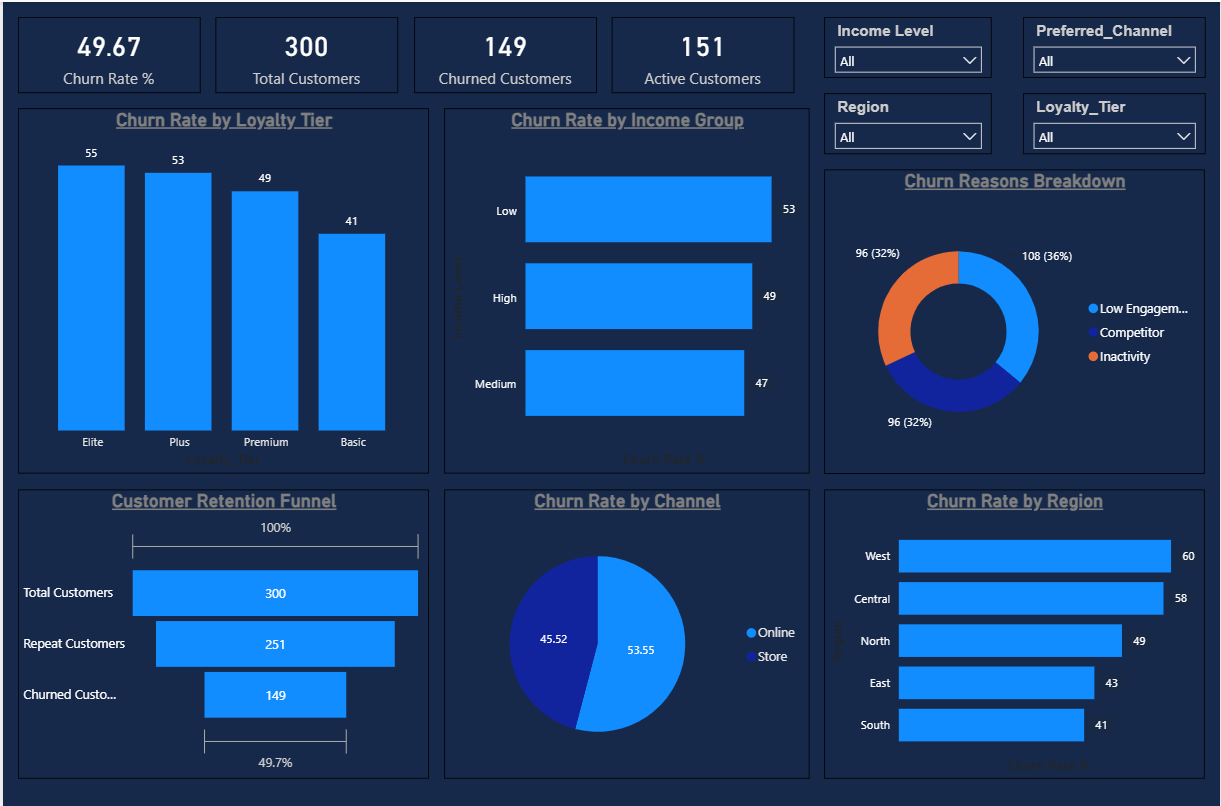

The dashboard page shown, as its layout file describes it:
{"tool":"powerbi","page":{"name":"Page 1","canvas":[1280,850],"ordinal":0},"visuals":[{"type":"clusteredBarChart","title":"Churn Rate by Region","fields":{"Y":["Measures_Folder.Churn Rate %"],"Category":["Customer_Demographics.Region"]},"box":[864,512,400,304],"z":0},{"type":"clusteredBarChart","title":"Churn Rate by Income Group","fields":{"Y":["Measures_Folder.Churn Rate %"],"Category":["Customer_Demographics.Income_Level"]},"box":[464,112,384,384],"z":1000},{"type":"donutChart","title":"Churn Reasons Breakdown","fields":{"Category":["Churn_Labelled_Customers.Churn_Reason"],"Y":["CountNonNull(Customer_Demographics.Customer_ID)"]},"box":[864,176,400,320],"z":2000},{"type":"funnel","title":"Customer Retention Funnel","fields":{"Y":["Measures_Folder.Total Customers","Measures_Folder.Repeat Customers","Measures_Folder.Churned Customers"]},"box":[16,512,432,304],"z":3000},{"type":"pieChart","title":"Churn Rate by Channel","fields":{"Category":["Customer_Demographics.Preferred_Channel"],"Y":["Measures_Folder.Churn Rate %"]},"box":[464,512,384,304],"z":4000},{"type":"clusteredColumnChart","title":"Churn Rate by Loyalty Tier","fields":{"Y":["Measures_Folder.Churn Rate %"],"Category":["Loyalty_Program.Loyalty_Tier"]},"box":[16,112,432,384],"z":5000},{"type":"card","fields":{"Values":["Measures_Folder.Churn Rate %"]},"box":[16,16,192,80],"z":6000},{"type":"card","fields":{"Values":["Measures_Folder.Active Customers"]},"box":[640,16,192,80],"z":7000},{"type":"card","fields":{"Values":["Measures_Folder.Churned Customers"]},"box":[432,16,192,80],"z":8000},{"type":"card","fields":{"Values":["Measures_Folder.Total Customers"]},"box":[224,16,192,80],"z":9000},{"type":"slicer","fields":{"Values":["Customer_Demographics.Preferred_Channel"]},"box":[1072,16,192,64],"z":10000},{"type":"slicer","fields":{"Values":["Loyalty_Program.Loyalty_Tier"]},"box":[1072,96,192,64],"z":11000},{"type":"slicer","fields":{"Values":["Customer_Demographics.Income_Level"]},"box":[864,16,176,64],"z":12000},{"type":"slicer","fields":{"Values":["Customer_Demographics.Region"]},"box":[864,96,176,64],"z":13000}]}

Visuals, with their boxes in screenshot pixels (x1, y1, x2, y2), scaled from the page's 1280x850 canvas onto the 1221x806 screenshot:
"Churn Rate by Region" clusteredBarChart: 824/485/1206/774
"Churn Rate by Income Group" clusteredBarChart: 443/106/809/470
"Churn Reasons Breakdown" donutChart: 824/167/1206/470
"Customer Retention Funnel" funnel: 15/485/427/774
"Churn Rate by Channel" pieChart: 443/485/809/774
"Churn Rate by Loyalty Tier" clusteredColumnChart: 15/106/427/470
card - Measures_Folder.Churn Rate %: 15/15/198/91
card - Measures_Folder.Active Customers: 610/15/794/91
card - Measures_Folder.Churned Customers: 412/15/595/91
card - Measures_Folder.Total Customers: 214/15/397/91
slicer - Customer_Demographics.Preferred_Channel: 1023/15/1206/76
slicer - Loyalty_Program.Loyalty_Tier: 1023/91/1206/152
slicer - Customer_Demographics.Income_Level: 824/15/992/76
slicer - Customer_Demographics.Region: 824/91/992/152
